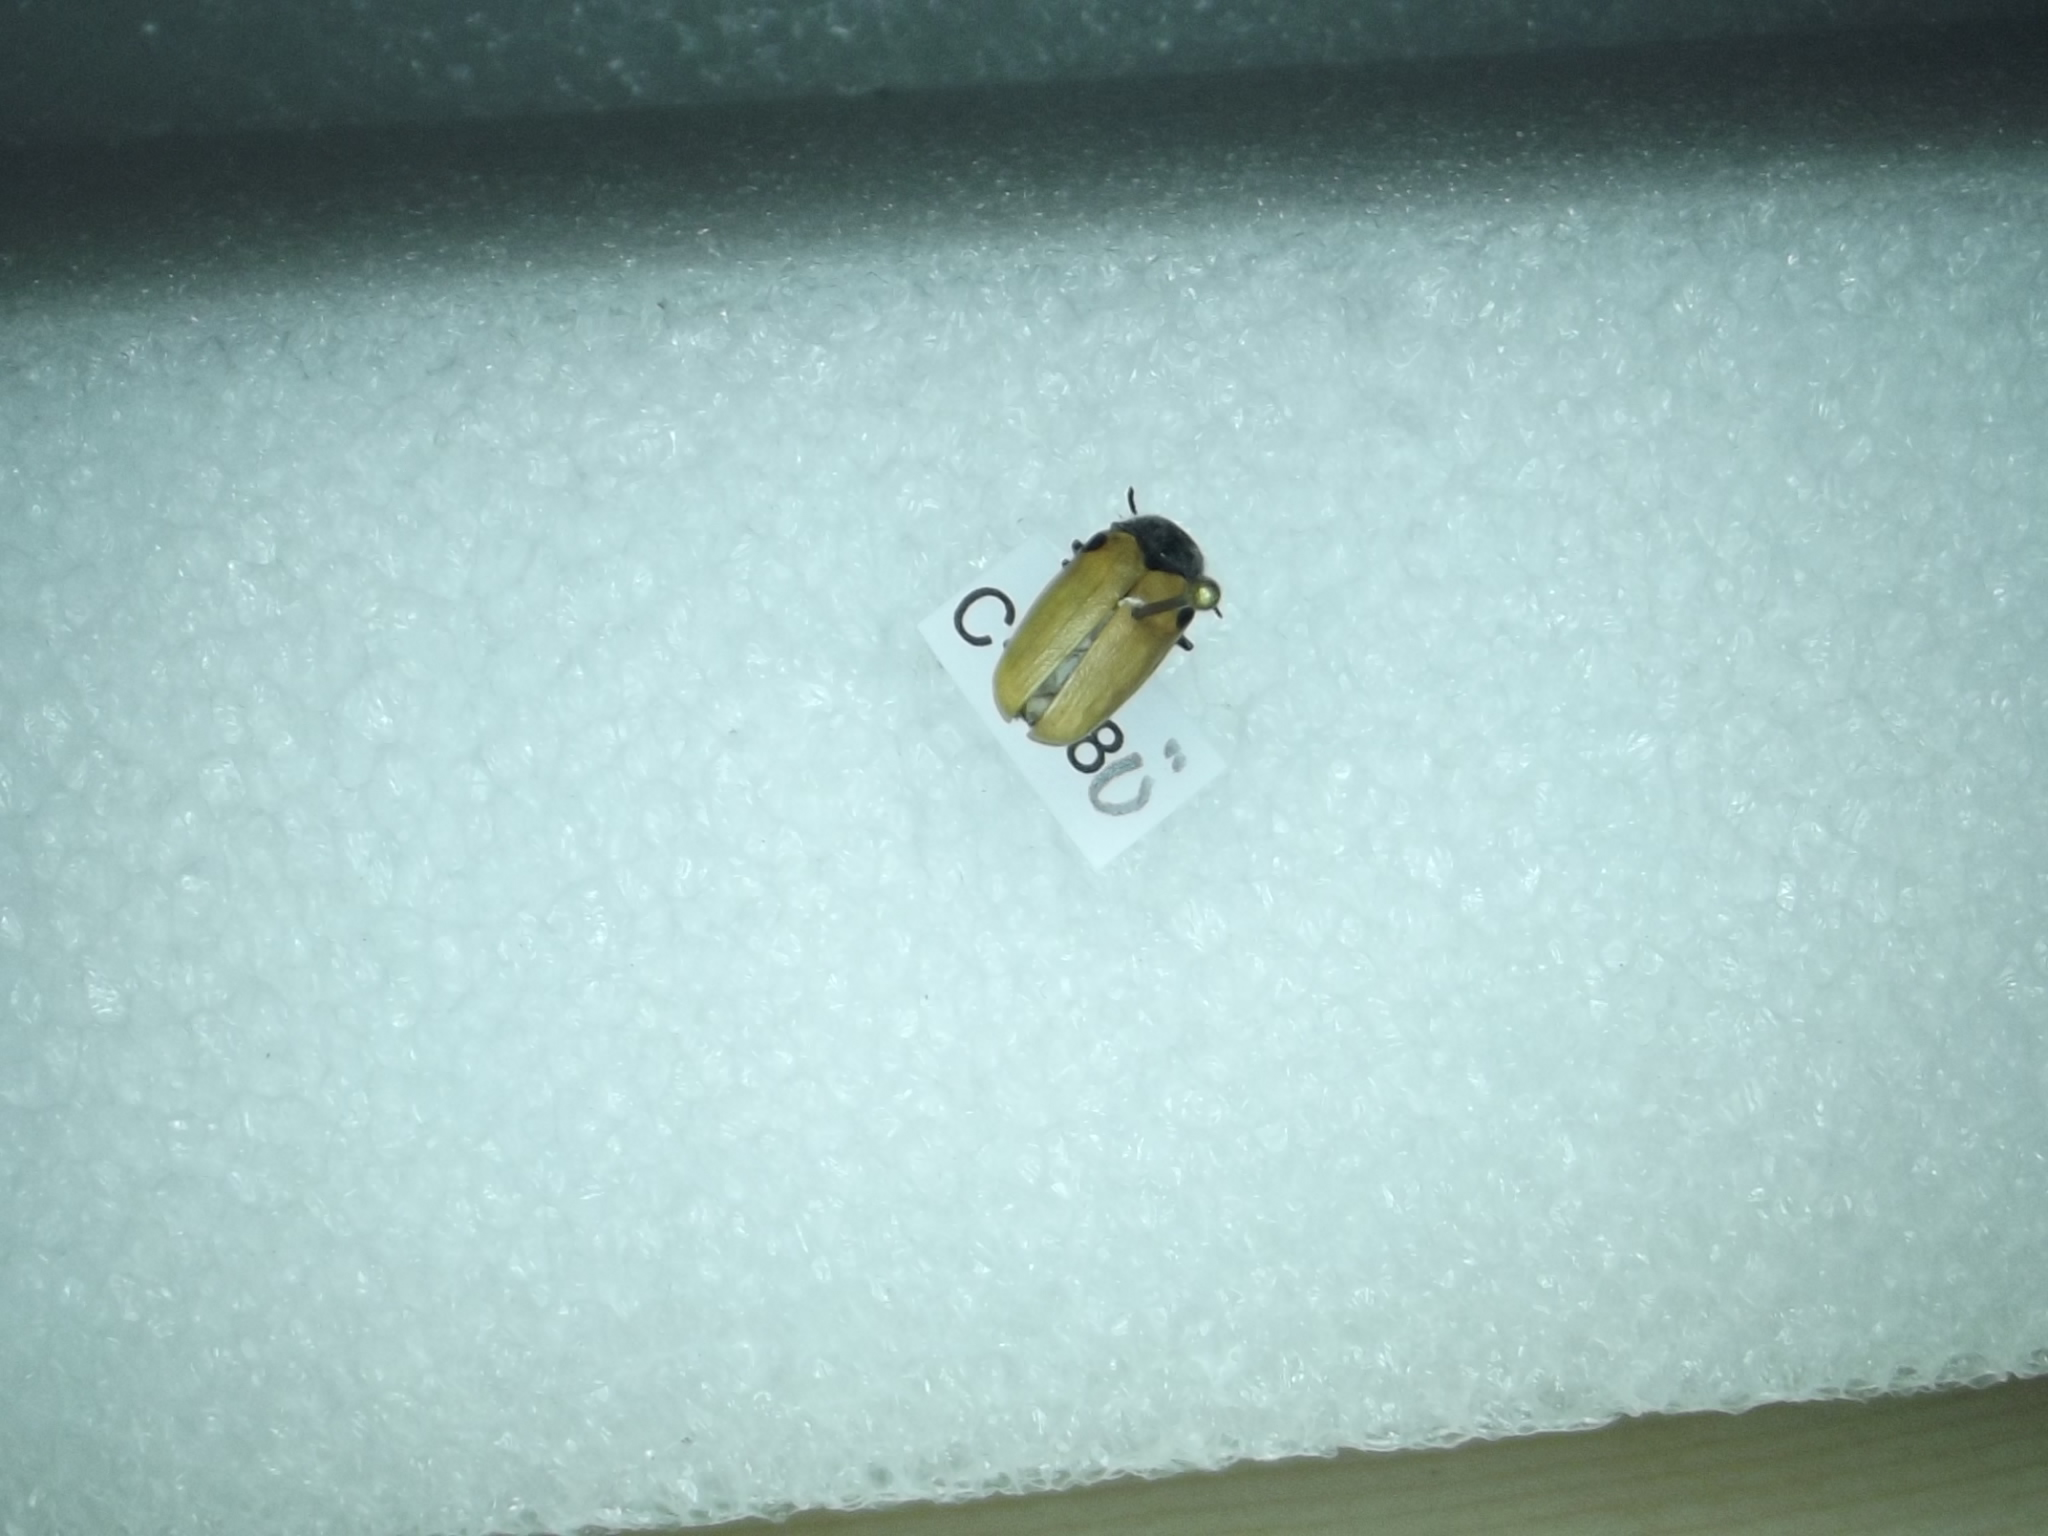Labidostomis_longimana: (989, 490, 1218, 766)
